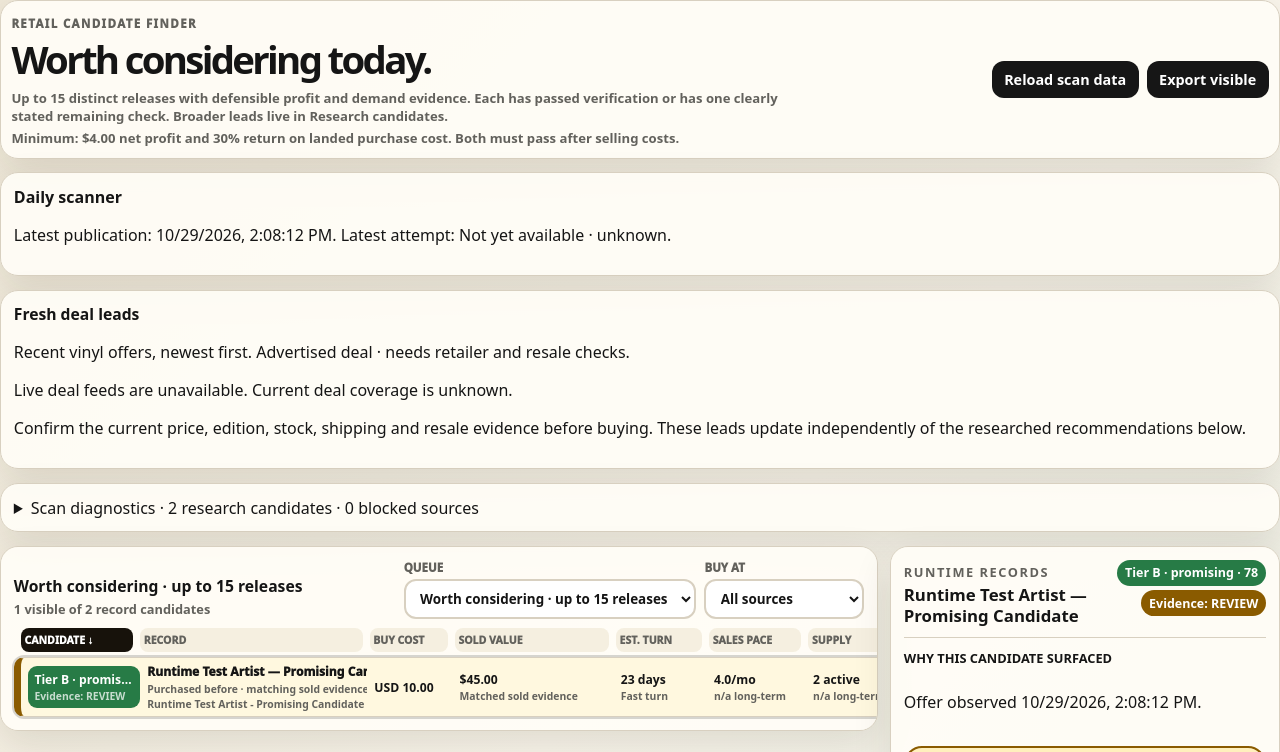
Test: arbitrage pages › shows and orders candidate tiers even when no record is an automatic BUY
Select "Tier C · research" in the dropdown labelled "Queue" at (550, 599), box left=404, top=579, right=696, bottom=619
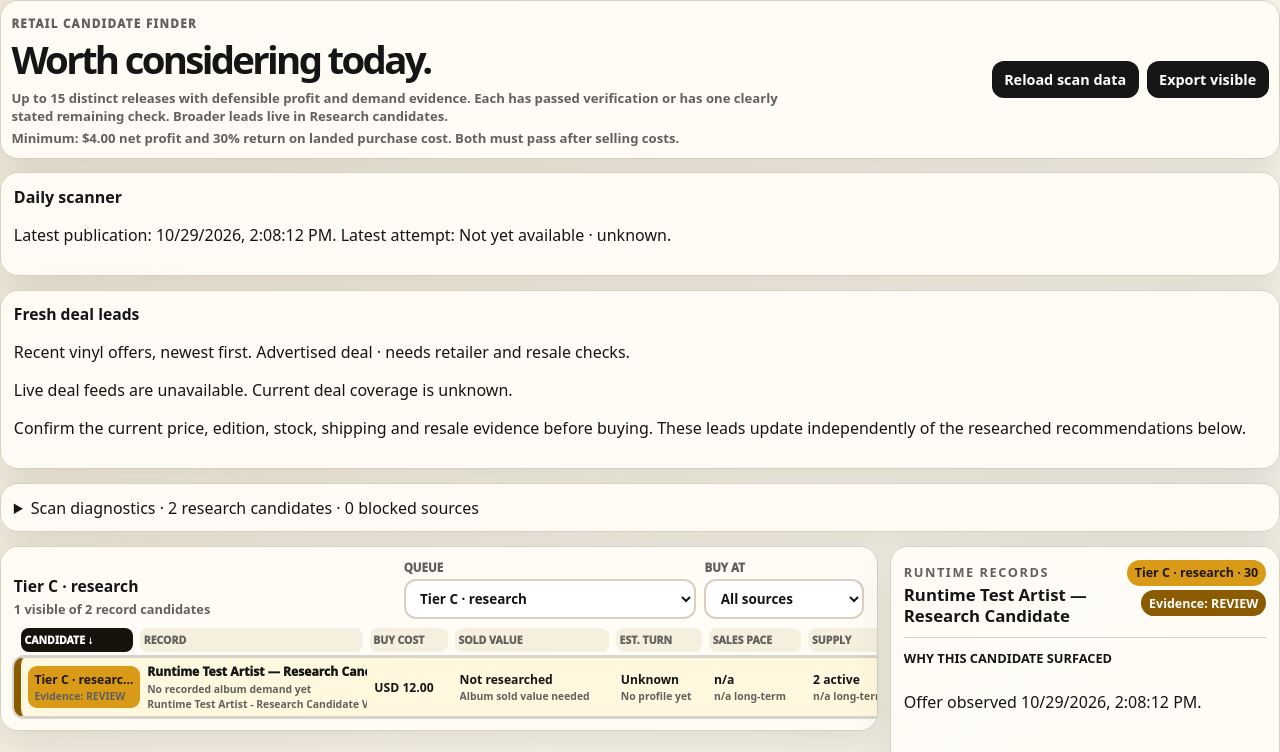
Expected: the text "Research Candidate" is shown, left=11, top=89, right=778, bottom=125
Result: the text "Promising Candidate" is gone
Result: the text "No recorded album demand yet" is shown at left=147, top=682, right=311, bottom=696
